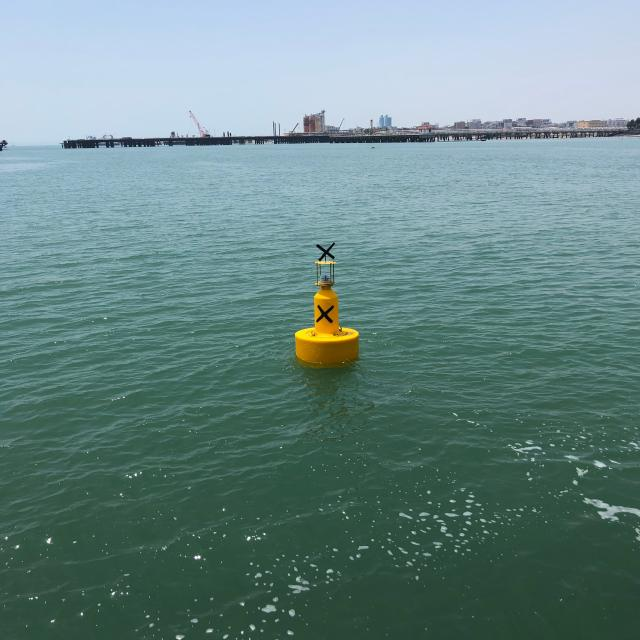buoy: (289, 238, 373, 362)
